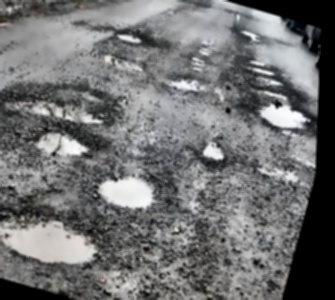pothole: (0, 193, 109, 277), (0, 65, 121, 138), (88, 159, 162, 218), (21, 115, 97, 167), (254, 94, 316, 136), (198, 138, 229, 164), (112, 28, 144, 46), (238, 26, 263, 43), (251, 62, 277, 77), (257, 73, 284, 86)
